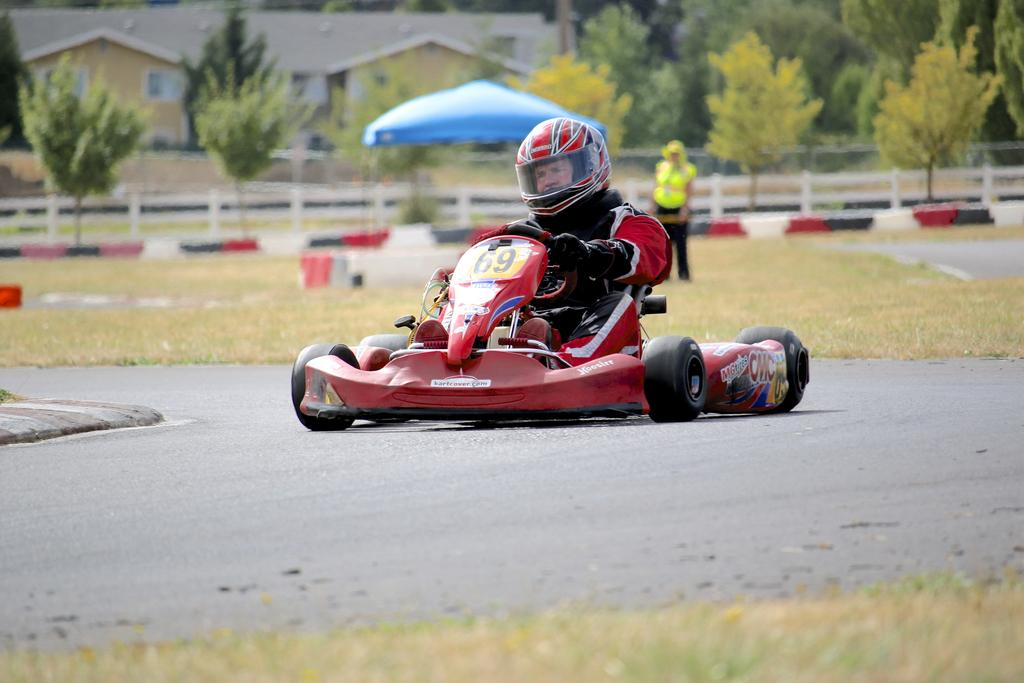helmet: (515, 117, 612, 217)
nohelmet: (661, 139, 688, 166)
